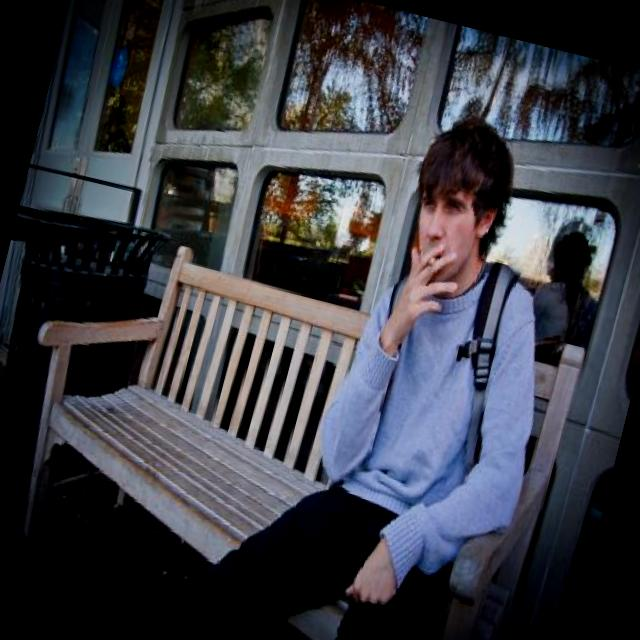cigarette: (422, 246, 447, 278)
